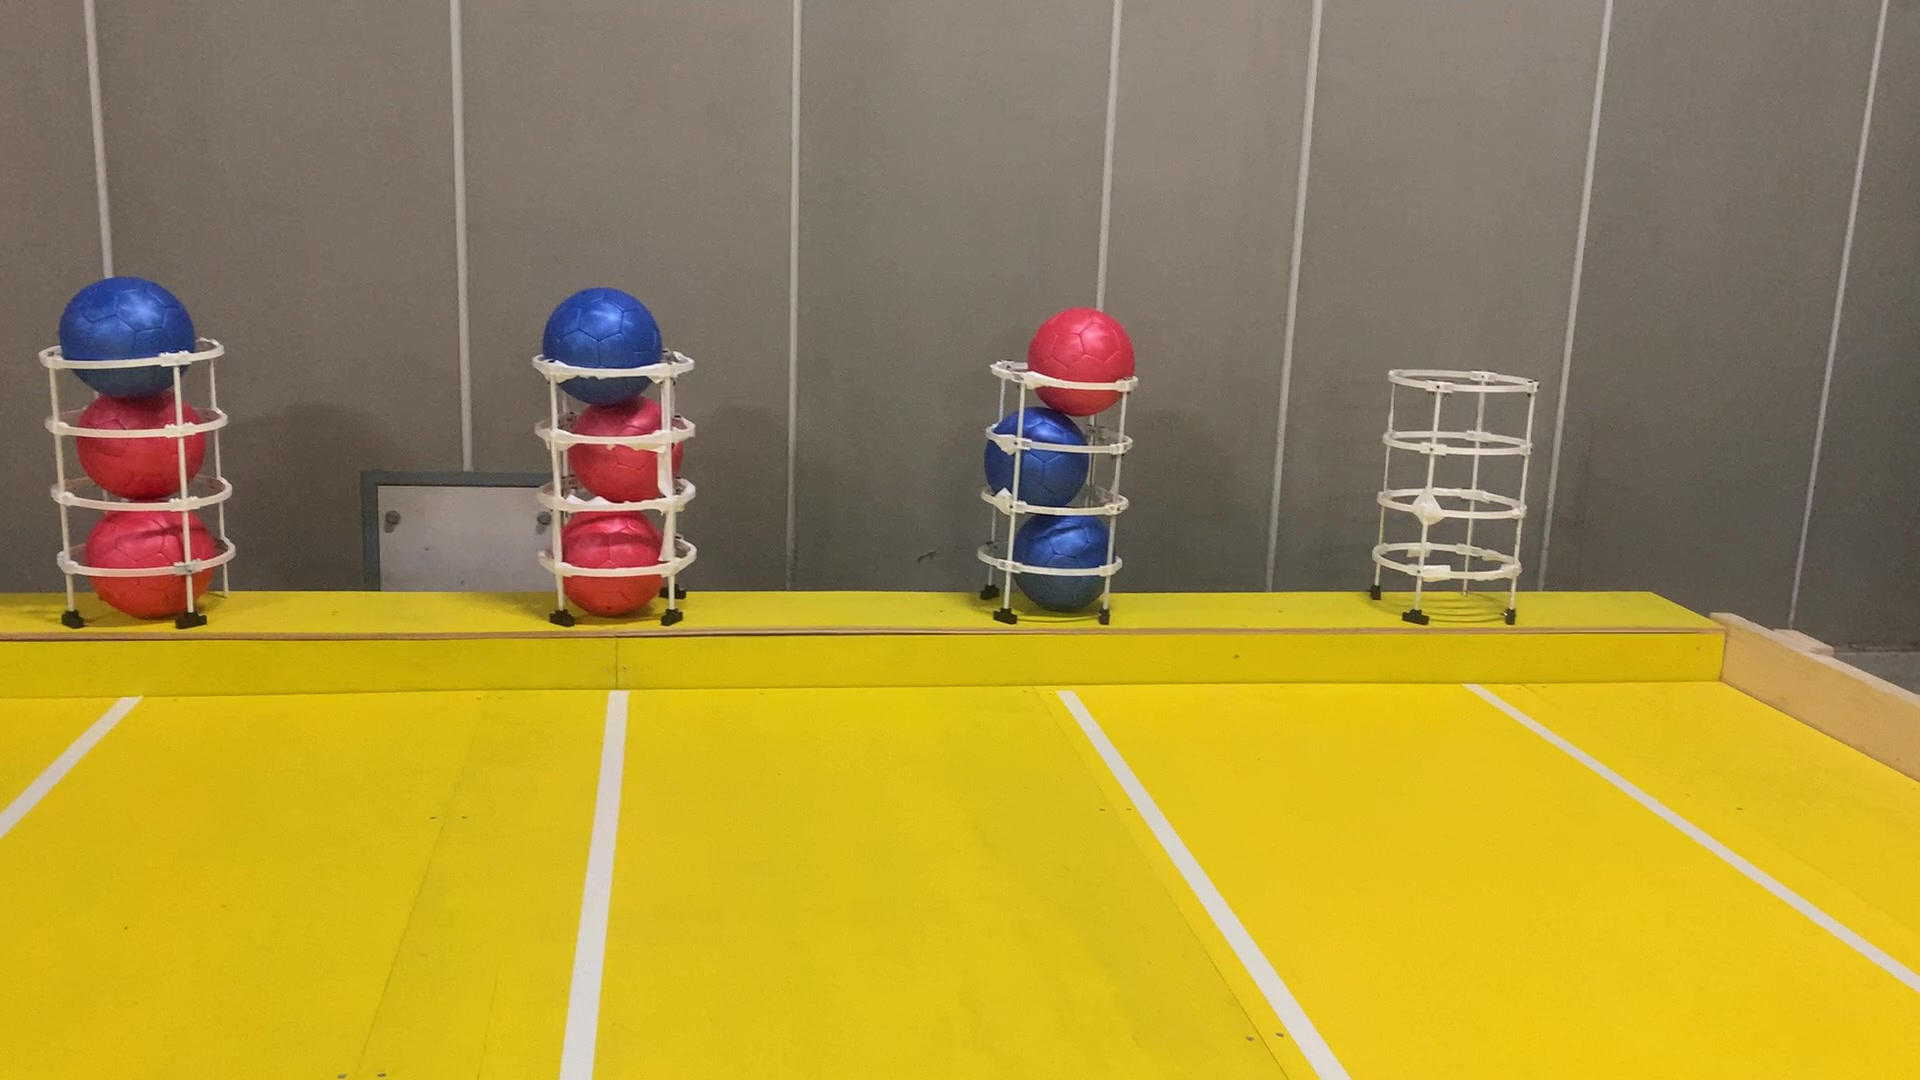blue: (53, 276, 189, 401), (534, 289, 662, 401), (1001, 508, 1114, 615), (981, 407, 1095, 509)
red: (91, 496, 219, 625), (562, 389, 690, 517), (546, 496, 675, 618), (79, 380, 207, 502), (1026, 298, 1139, 417)
